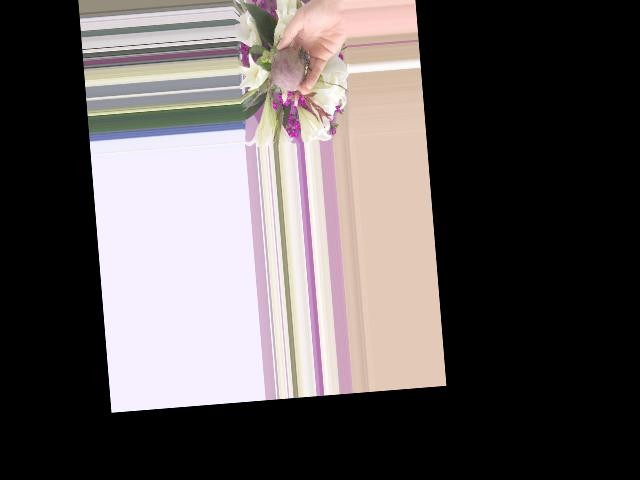beet: (239, 45, 313, 112)
